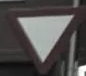Give way: (4, 4, 80, 70)
